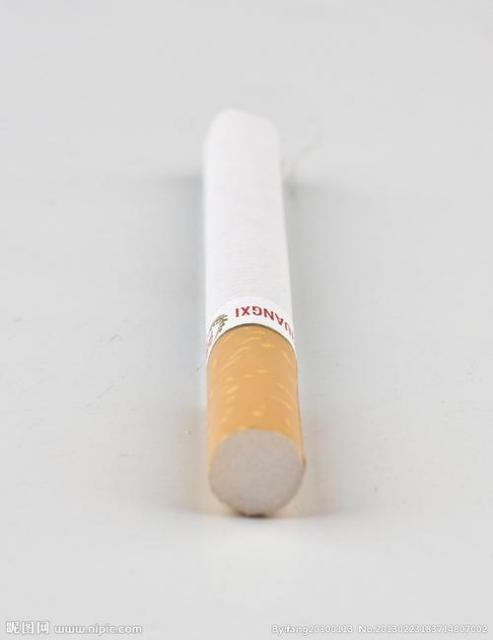Smoking: (207, 111, 305, 515)
